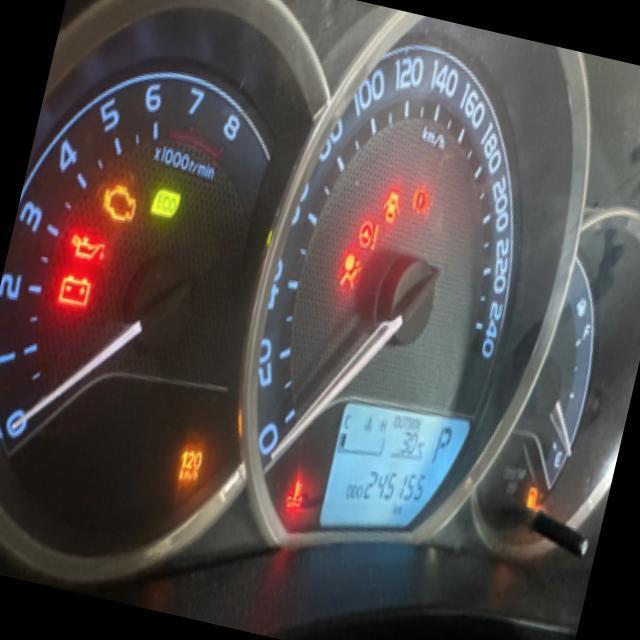Doors: (377, 187, 406, 228)
Engine cooling system: (280, 471, 311, 516)
